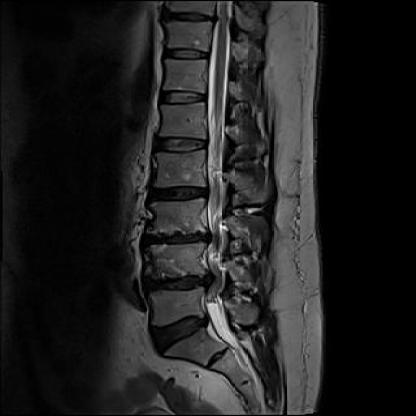Disc Bulgerotation: (133, 222, 231, 255), (144, 313, 219, 350)
